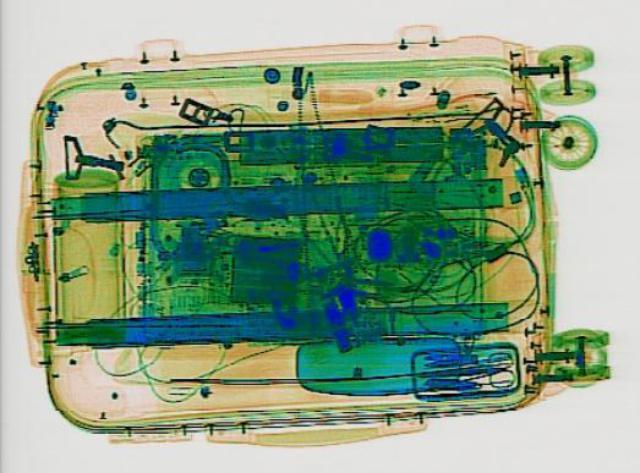Scissors: (411, 351, 515, 390)
